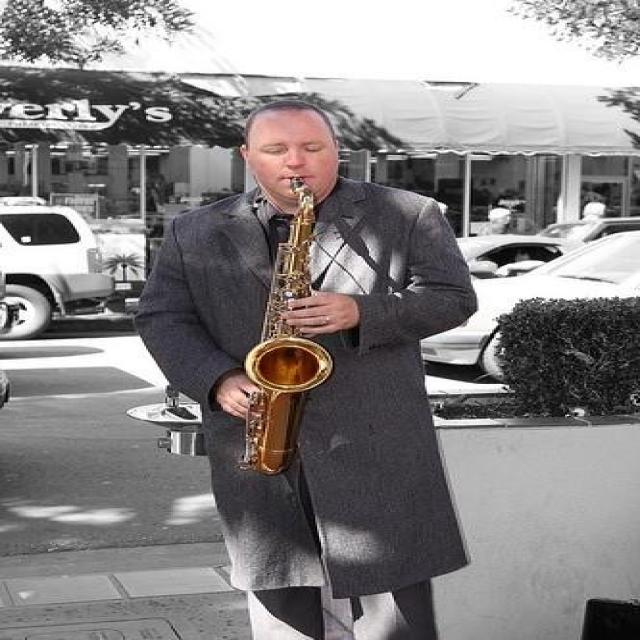saxophone: (232, 174, 339, 476)
